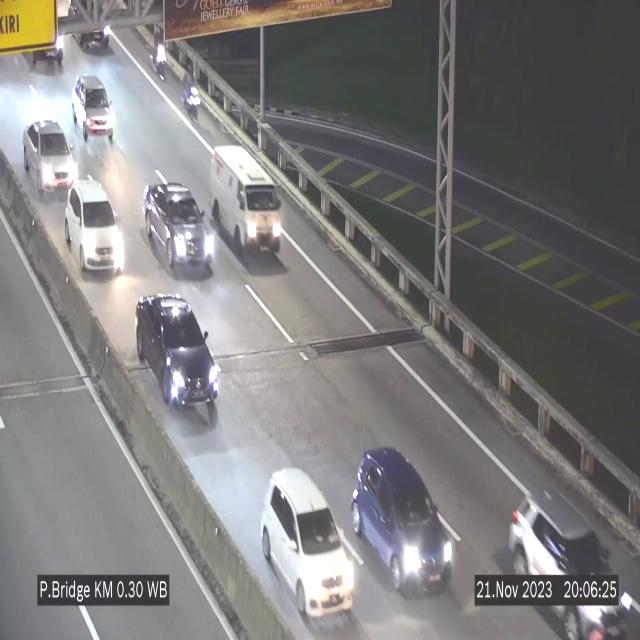Car: (498, 457, 640, 640), (351, 446, 455, 592), (262, 470, 354, 630), (134, 294, 220, 414), (209, 146, 283, 266), (143, 179, 220, 277), (63, 182, 129, 281), (23, 116, 81, 196), (72, 74, 116, 150)
Motorcycle: (178, 59, 204, 134), (148, 22, 170, 87)
